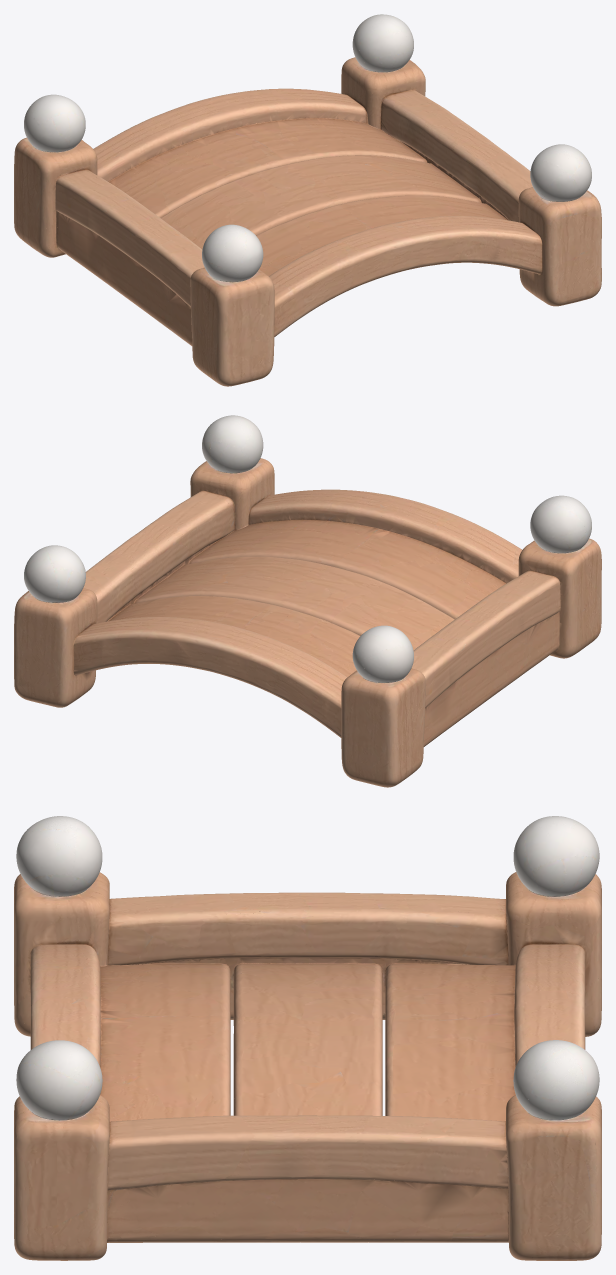
The model's file is bridge-low.glb.
3 renders of one model, top to bottom at view 1: azimuth 30°, elevation 25°; view 2: azimuth 150°, elevation 25°; view 3: azimuth 270°, elevation 25°, orthographic. The views are drawn at different scales.
Parts seen in each view (by area): view 1: Mesh_0.006; view 2: Mesh_0.006; view 3: Mesh_0.006.
Boxes of the visible parts, x1,y1,x2,y2 form: Mesh_0.006: [14, 14, 601, 386]; Mesh_0.006: [14, 415, 601, 787]; Mesh_0.006: [14, 816, 601, 1260].
Bounding box in the file's own units: 1.9 × 0.6958 × 1.81.
1 material, 1 textured.
